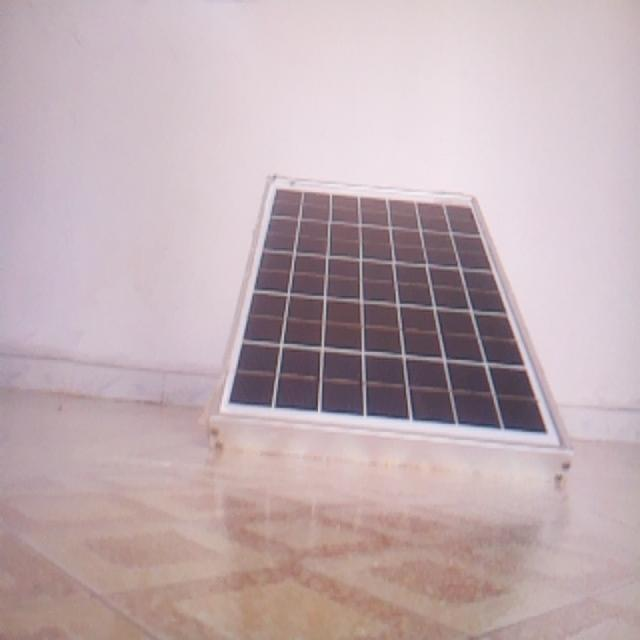Normal Solar Panel: (209, 177, 575, 479)
